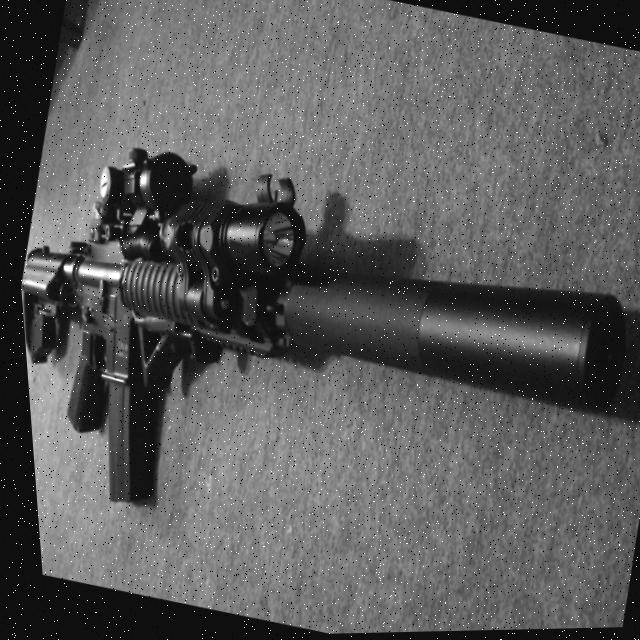firearm: (7, 110, 640, 614)
